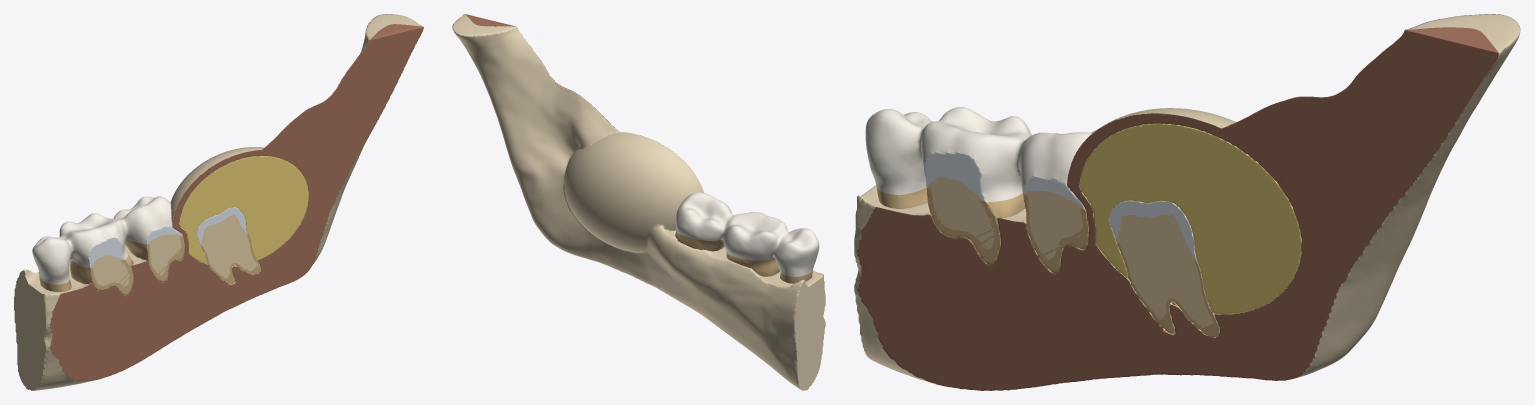
Rendered from cyst-cut.glb.
3 renders of one model, left to right at view 1: azimuth 30°, elevation 25°; view 2: azimuth 150°, elevation 25°; view 3: azimuth 330°, elevation 25°, orthographic. The views are drawn at different scales.
Visible parts, largest first — view 1: bone, teeth, cyst; view 2: bone, teeth; view 3: bone, teeth, cyst.
Part boxes in pixels (box(x1,y1,x2,y2)): bone: box(14, 14, 423, 390); teeth: box(32, 196, 260, 295); cyst: box(179, 156, 308, 266); bone: box(452, 14, 825, 390); teeth: box(675, 192, 819, 283); bone: box(854, 14, 1520, 390); teeth: box(865, 107, 1219, 336); cyst: box(1079, 123, 1301, 314).
Bounding box in the file's own units: 81.85 × 59.04 × 12.39.
